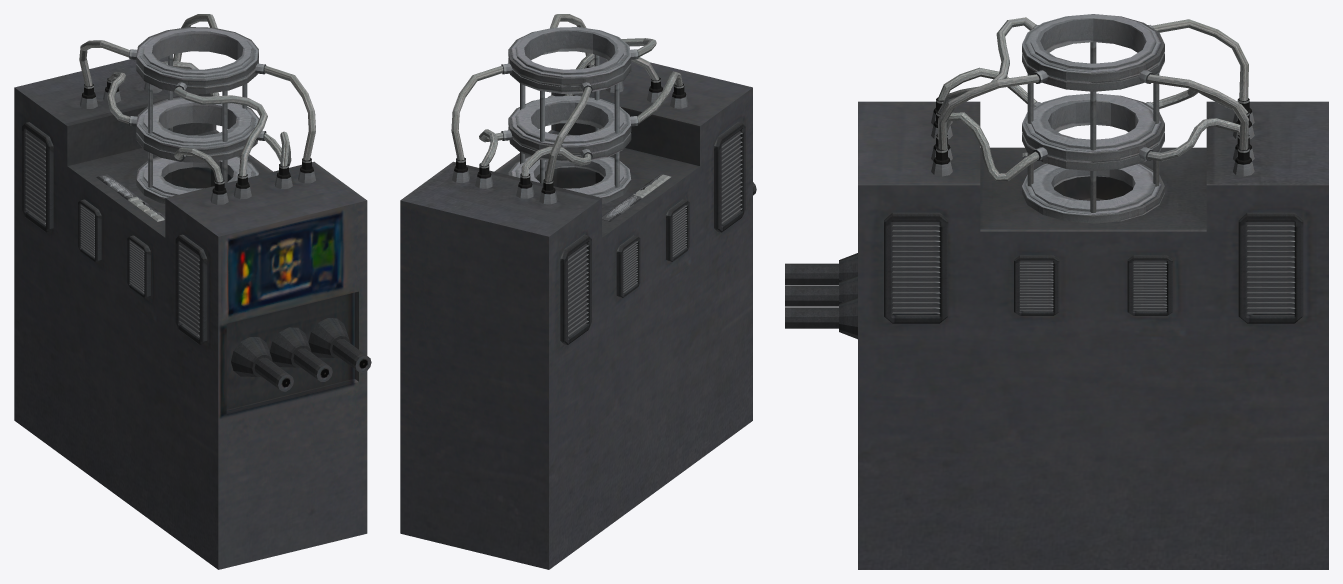
The model's file is slot.obj.
3 views of the same model, side by side, from view 1: azimuth 30°, elevation 25°; view 2: azimuth 150°, elevation 25°; view 3: azimuth 270°, elevation 25° (orthographic). The views are drawn at different scales.
Parts seen in each view (by area): view 1: zpm_slot_ref; view 2: zpm_slot_ref; view 3: zpm_slot_ref.
Part boxes in pixels (x1=…): zpm_slot_ref: x1=14, y1=14, x2=371, y2=569; zpm_slot_ref: x1=400, y1=14, x2=756, y2=569; zpm_slot_ref: x1=785, y1=14, x2=1328, y2=569.
Size of the model in its own units: 0.5732 by 1.48 by 1.49.
